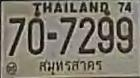0: (27, 17, 43, 54)
2: (78, 16, 94, 53)
7: (59, 16, 76, 54), (8, 17, 24, 55)
9: (97, 16, 113, 53), (116, 16, 132, 53)
SKN: (37, 57, 105, 76)
